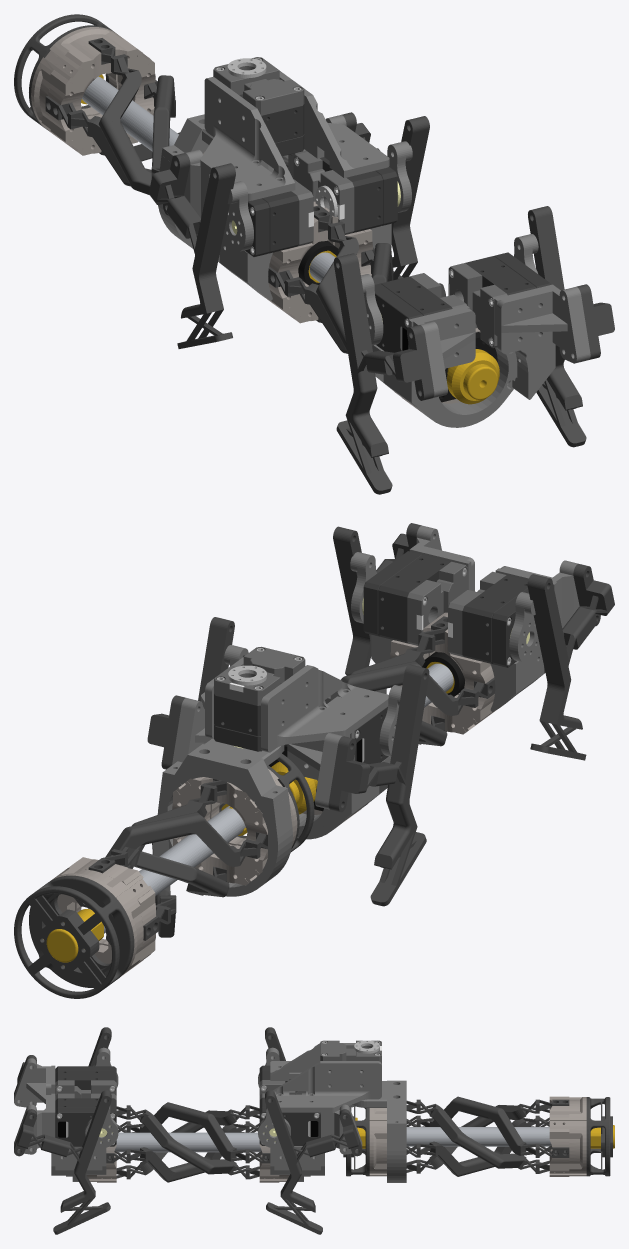
Rendered from lithe-joint.glb.
The picture shows the model from 3 angles, top to bottom: view 1: azimuth 30°, elevation 25°; view 2: azimuth 150°, elevation 25°; view 3: azimuth 270°, elevation 25°; orthographic projection. The views are drawn at different scales.
Bounding box in the file's own units: 0.123 × 0.1295 × 0.4545.
